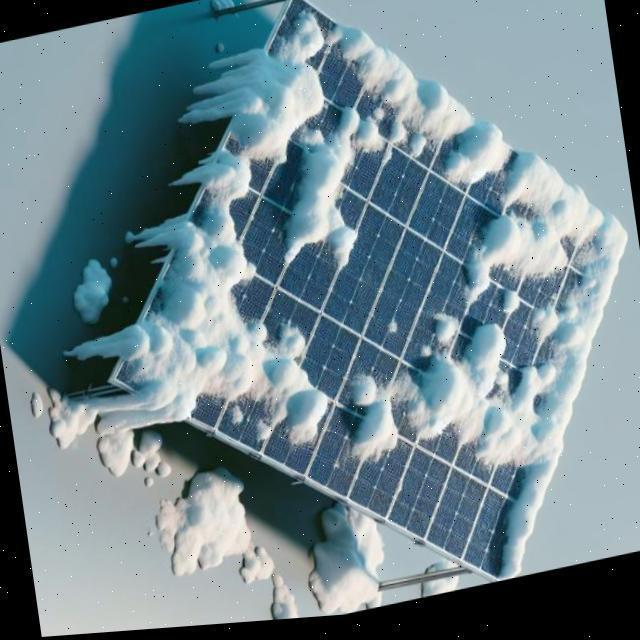Anomaly Solar Panel: (101, 0, 640, 588)
Snow: (303, 157, 640, 588), (111, 150, 416, 471), (279, 19, 524, 228), (224, 9, 357, 180), (277, 104, 392, 280), (495, 292, 529, 327)
